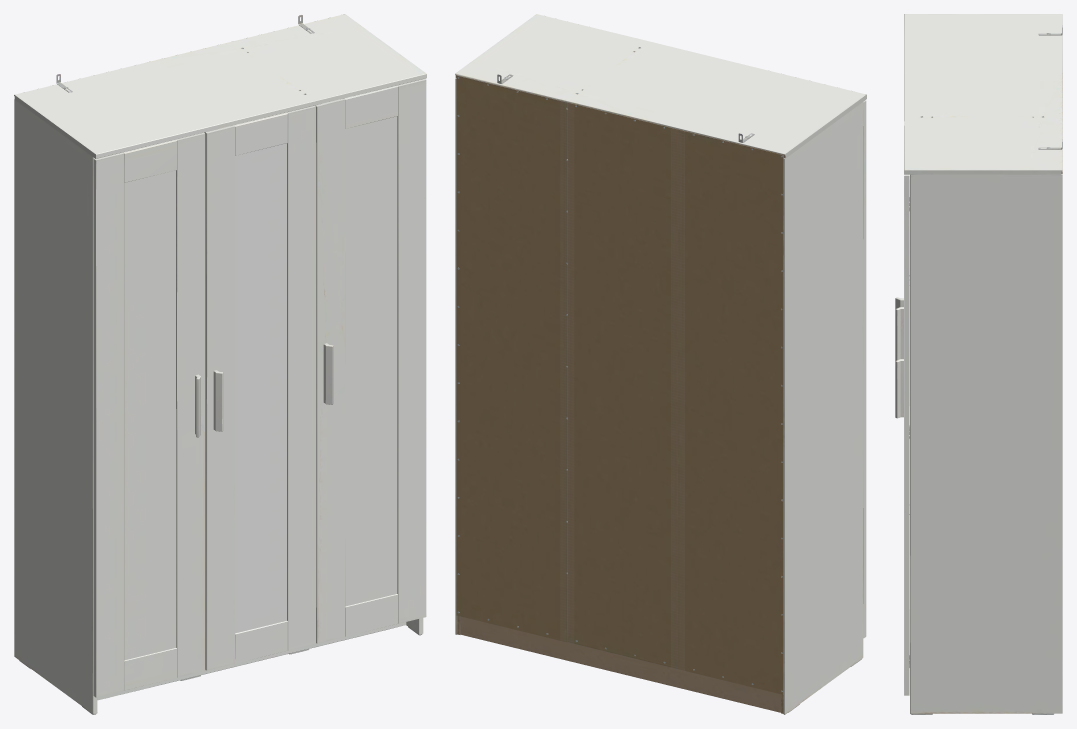
Rendered from brimnes-armario-con-3-puertas-blanco.glb.
3 views of the same model, side by side, from view 1: azimuth 30°, elevation 25°; view 2: azimuth 150°, elevation 25°; view 3: azimuth 270°, elevation 25° (orthographic). The views are drawn at different scales.
Parts seen in each view (by area): view 1: 1; view 2: 1; view 3: 1.
Boxes of the visible parts, x1,y1,x2,y2 form: 1: [14, 14, 426, 714]; 1: [455, 14, 866, 714]; 1: [895, 14, 1062, 714].
Size of the model in its own units: 1.17 by 1.94 by 0.529.
2 materials, 2 textured.
